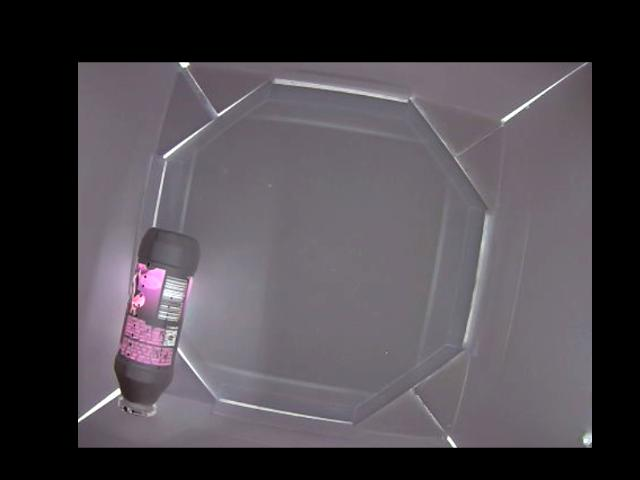Bottle: (110, 226, 200, 417)
